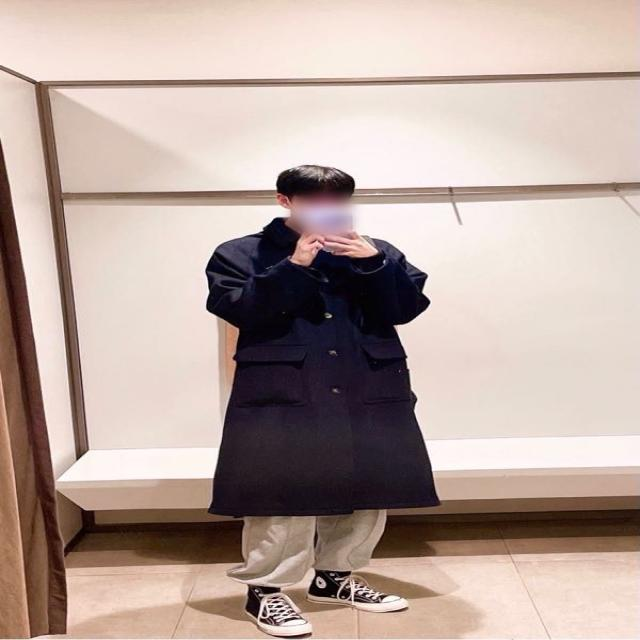coat: (204, 217, 440, 517)
trainingpants: (229, 511, 387, 589)
